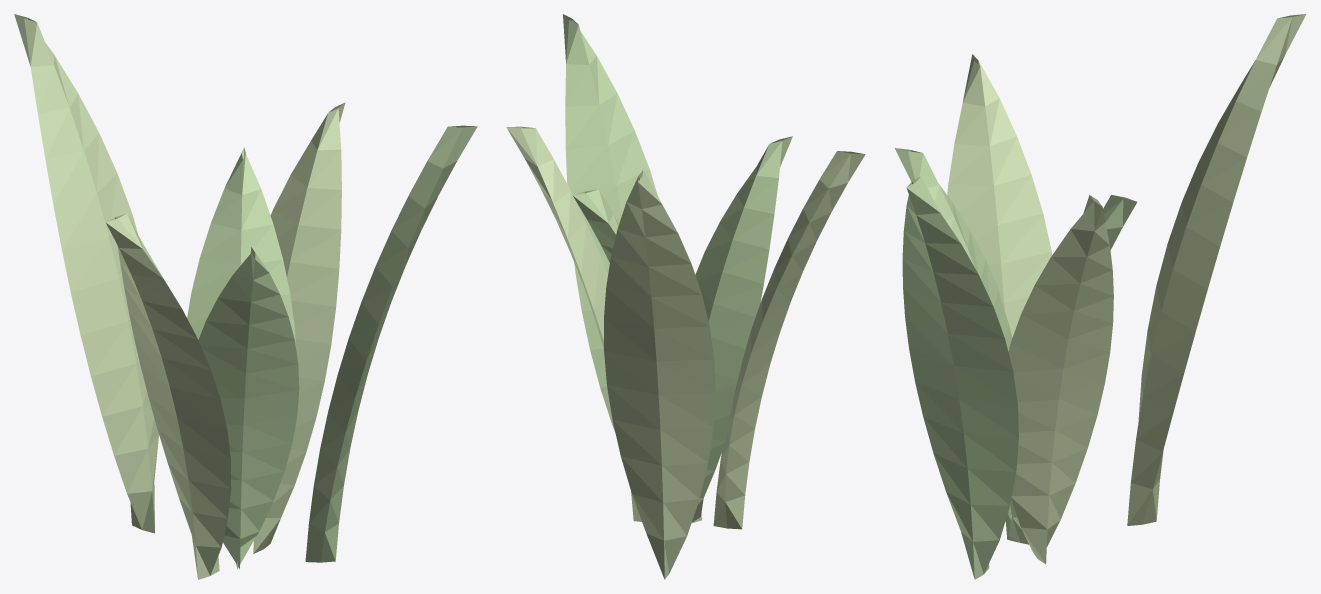
Rendered from reeds_short.glb.
The picture shows the model from 3 angles, left to right: view 1: azimuth 30°, elevation 25°; view 2: azimuth 150°, elevation 25°; view 3: azimuth 270°, elevation 25°; orthographic projection. The views are drawn at different scales.
Visible parts, largest first — view 1: reeds_short_03, reeds_short_01, reeds_short_04, reeds_short_05, reeds_short_02, reeds_short_00; view 2: reeds_short_03, reeds_short_04, reeds_short_02, reeds_short_01, reeds_short_05, reeds_short_00; view 3: reeds_short_02, reeds_short_05, reeds_short_03, reeds_short_01, reeds_short_04, reeds_short_00.
Boxes of the visible parts, left/top/right/bottom form: reeds_short_03: left=14, top=14, right=158, bottom=533; reeds_short_01: left=106, top=213, right=231, bottom=579; reeds_short_04: left=198, top=247, right=299, bottom=568; reeds_short_05: left=253, top=102, right=345, bottom=553; reeds_short_02: left=305, top=125, right=477, bottom=562; reeds_short_00: left=187, top=147, right=295, bottom=568; reeds_short_03: left=604, top=170, right=715, bottom=579; reeds_short_04: left=692, top=136, right=792, bottom=522; reeds_short_02: left=563, top=14, right=657, bottom=431; reeds_short_01: left=713, top=151, right=865, bottom=529; reeds_short_05: left=506, top=126, right=641, bottom=521; reeds_short_00: left=572, top=189, right=701, bottom=523; reeds_short_02: left=902, top=176, right=1018, bottom=579; reeds_short_05: left=1008, top=195, right=1113, bottom=564; reeds_short_03: left=1127, top=14, right=1306, bottom=525; reeds_short_01: left=947, top=54, right=1052, bottom=337; reeds_short_04: left=894, top=148, right=1019, bottom=542; reeds_short_00: left=1009, top=195, right=1137, bottom=544.
Bounding box in the file's own units: 0.5713 × 0.7529 × 0.58.
